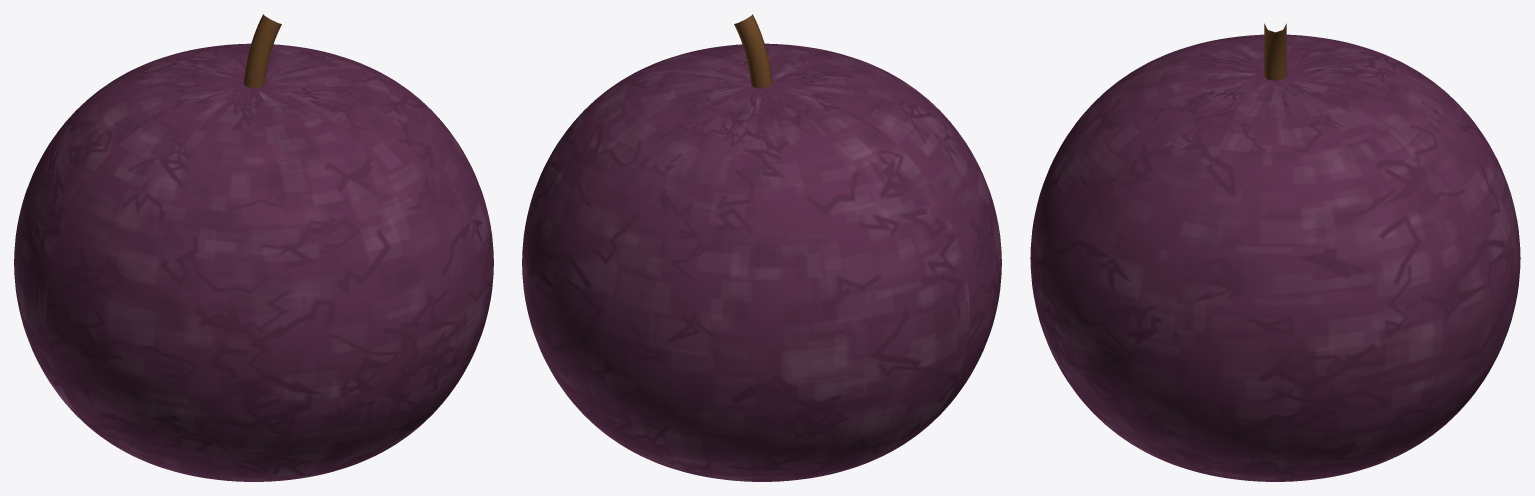
File: passion-fruit.glb
3 renders of one model, left to right at view 1: azimuth 30°, elevation 25°; view 2: azimuth 150°, elevation 25°; view 3: azimuth 270°, elevation 25°, orthographic. The views are drawn at different scales.
Size of the model in its own units: 0.17 by 0.1652 by 0.17.
2 materials, 1 textured.
